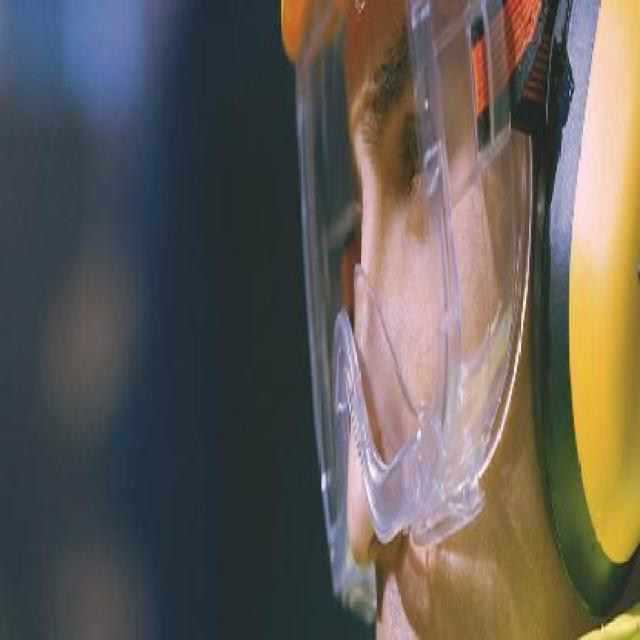face_mask: (293, 0, 536, 585)
